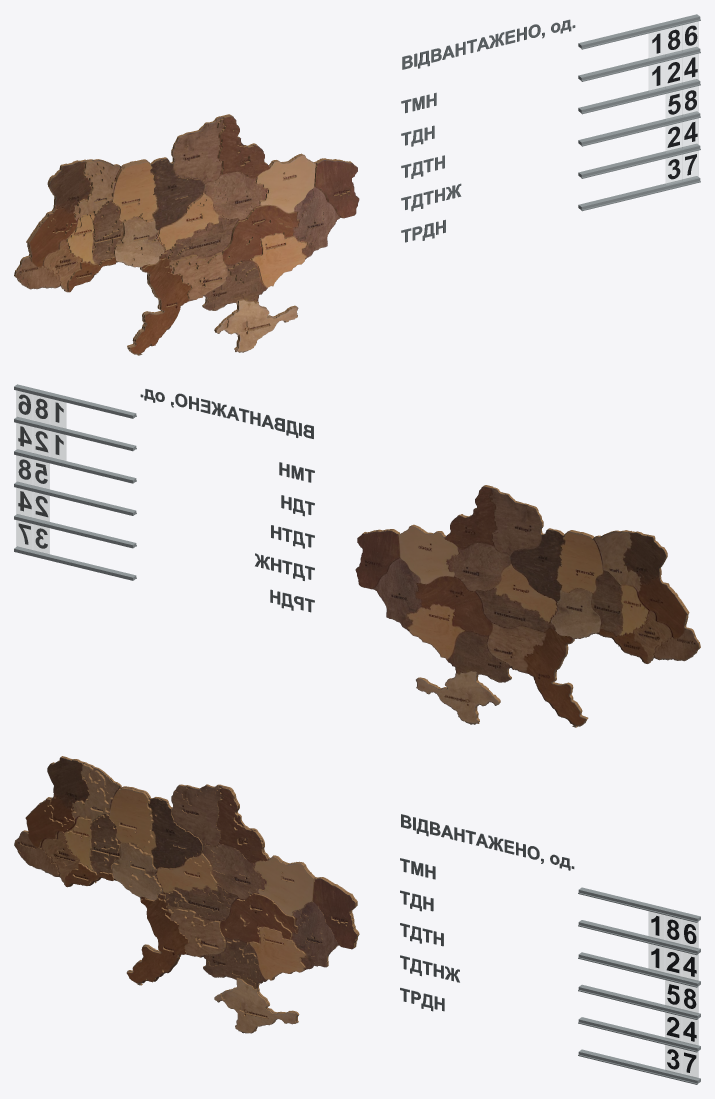
Rendered from edsSignage-5.glb.
3 views of the same model, one above another, from view 1: azimuth 30°, elevation 25°; view 2: azimuth 150°, elevation 25°; view 3: azimuth 330°, elevation 25° (orthographic).
Visible parts, largest first — view 1: eds-ukraine/ukraine-printed-wood-top, eds-ukraine/anodized-aluminum, eds-ukraine/map-natural-plywood-edge, eds-ukraine/clear-acrylic, eds-ukraine/brushed-metal-letters, eds-ukraine/sign-print-black; view 2: eds-ukraine/ukraine-printed-wood-top, eds-ukraine/clear-acrylic, eds-ukraine/anodized-aluminum, eds-ukraine/brushed-metal-letters, eds-ukraine/sign-print-black, eds-ukraine/map-natural-plywood-edge; view 3: eds-ukraine/ukraine-printed-wood-top, eds-ukraine/anodized-aluminum, eds-ukraine/map-natural-plywood-edge, eds-ukraine/clear-acrylic, eds-ukraine/brushed-metal-letters, eds-ukraine/sign-print-black.
Part boxes in pixels (box(x1,y1,x2,y2)): eds-ukraine/ukraine-printed-wood-top: box(15, 115, 359, 355); eds-ukraine/anodized-aluminum: box(578, 14, 700, 211); eds-ukraine/map-natural-plywood-edge: box(14, 114, 355, 355); eds-ukraine/clear-acrylic: box(649, 21, 698, 184); eds-ukraine/brushed-metal-letters: box(401, 19, 575, 242); eds-ukraine/sign-print-black: box(652, 25, 697, 179); eds-ukraine/ukraine-printed-wood-top: box(355, 486, 699, 727); eds-ukraine/clear-acrylic: box(16, 390, 66, 554); eds-ukraine/anodized-aluminum: box(14, 384, 136, 580); eds-ukraine/brushed-metal-letters: box(140, 389, 314, 612); eds-ukraine/sign-print-black: box(18, 394, 63, 548); eds-ukraine/map-natural-plywood-edge: box(357, 485, 700, 727); eds-ukraine/ukraine-printed-wood-top: box(14, 757, 356, 1033); eds-ukraine/anodized-aluminum: box(578, 887, 700, 1084); eds-ukraine/map-natural-plywood-edge: box(15, 756, 359, 1032); eds-ukraine/clear-acrylic: box(648, 911, 698, 1079); eds-ukraine/brushed-metal-letters: box(400, 814, 574, 1011); eds-ukraine/sign-print-black: box(651, 916, 696, 1072).
Bounding box in the file's own units: 3.17 × 1.14 × 0.0315.
Materials: 6 (1 with a texture image).
